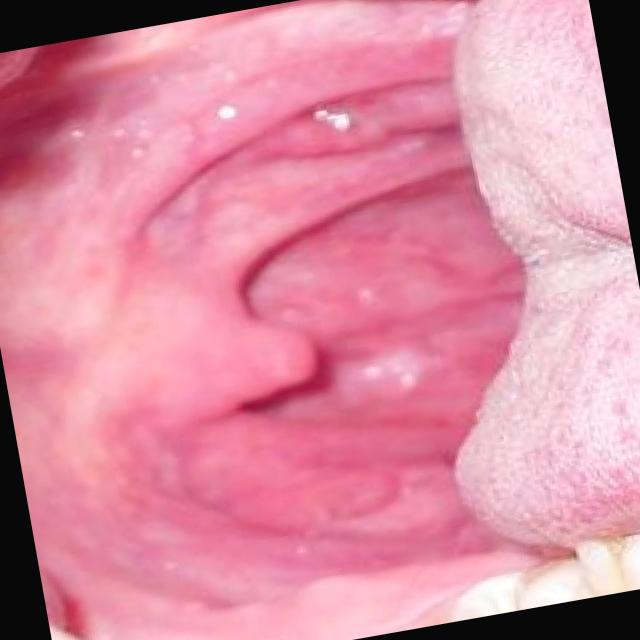Non Pharyngitis: (168, 267, 510, 556), (187, 0, 491, 183)
